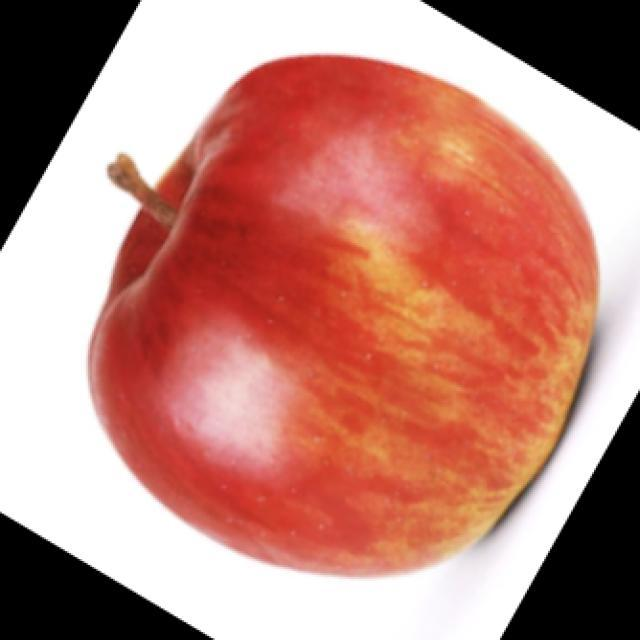Fresh Apple: (83, 47, 608, 583)
